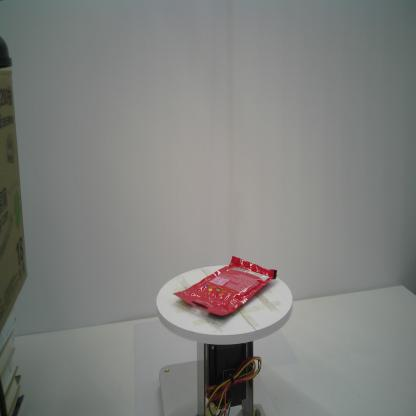Candy: (172, 255, 279, 318)
